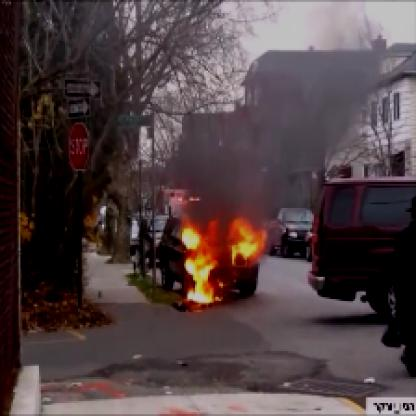Fire: (171, 175, 264, 312)
